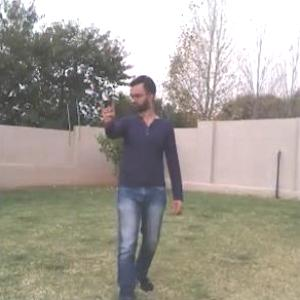takeoff-hand: (93, 87, 119, 136)
